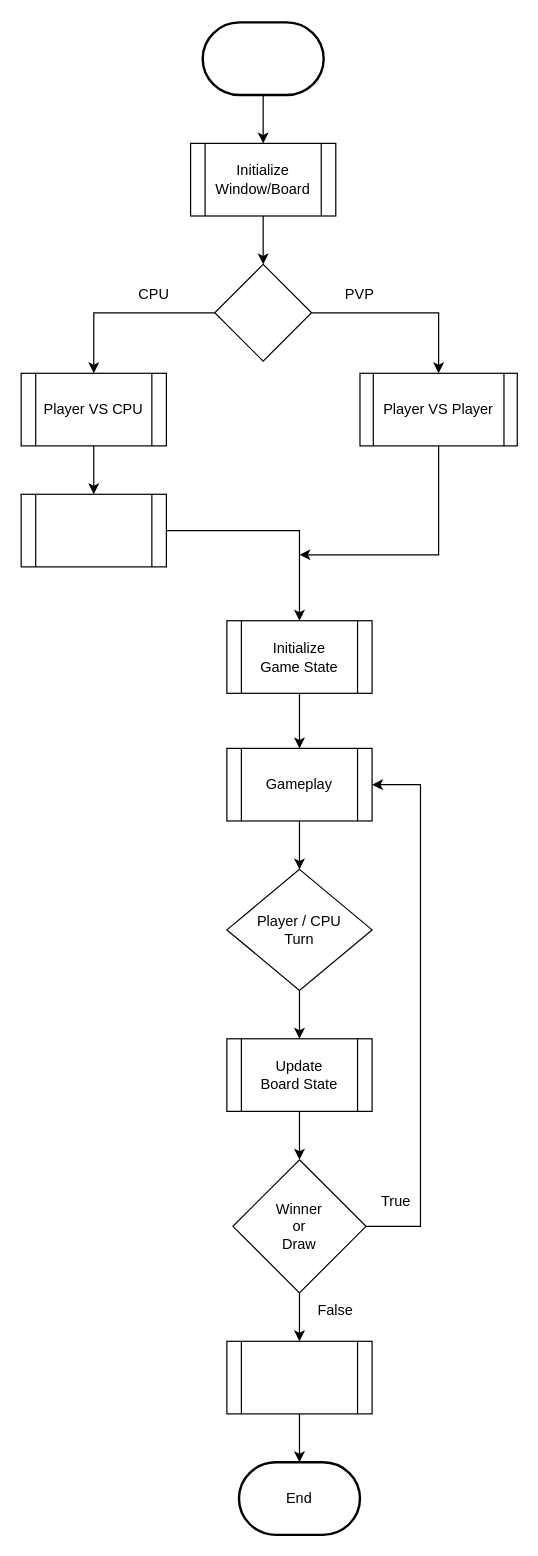
The diagram is 538 pixels wide and 1556 high, and some of its shapes have lost their labels. Each missing label, with the centre of its shape:
Save Score(): (299,1377)
Select Difficulty: (93,530)
Select Mode: (263,312)
Start: (262,58)
